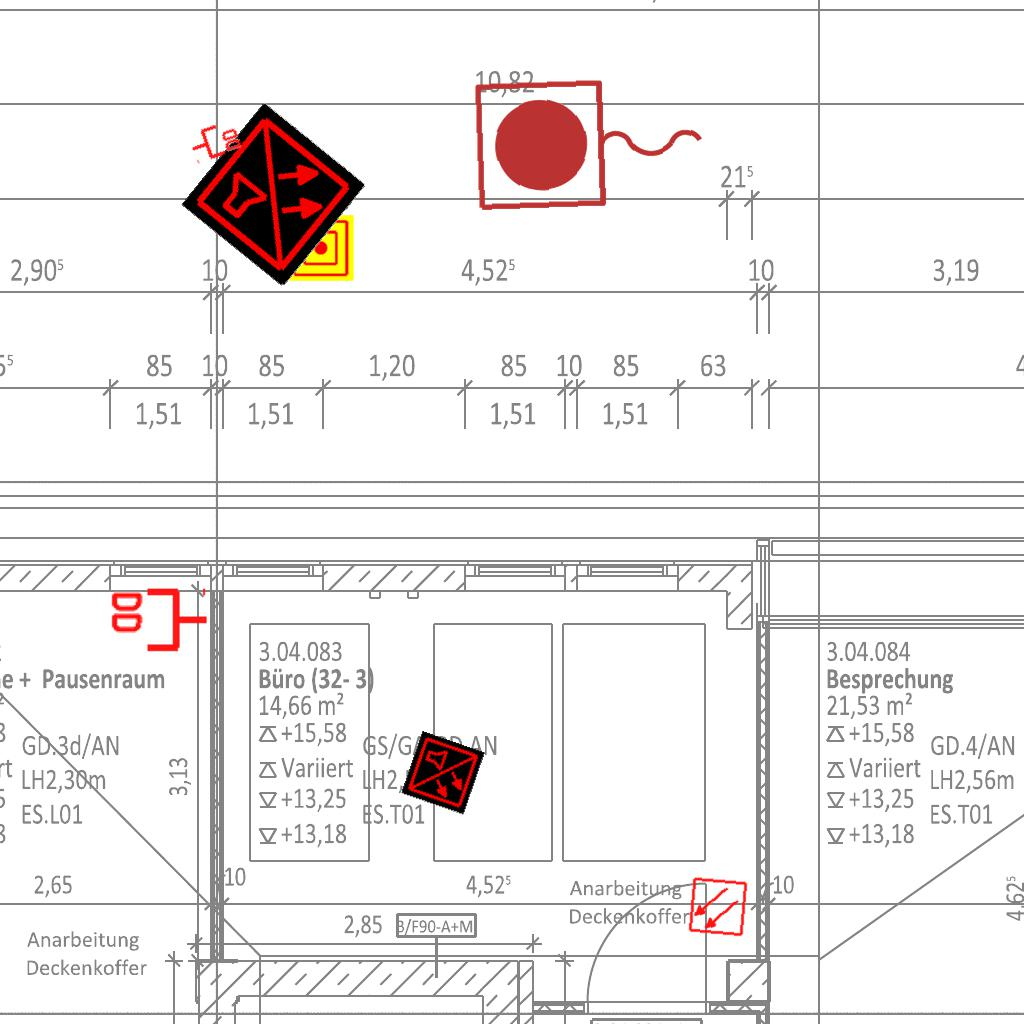Datenanschluss_zweifach: (107, 587, 210, 656), (185, 116, 245, 165)
NAM-Nichtautomatischer_Melder: (288, 215, 354, 281)
OKW_Multisensormelder_(Kombination_optischer_Rauch-Kahlenmonoxid_Waerme-Melder): (181, 102, 367, 288), (401, 731, 485, 815)
RMO_Rauchmelder_optischer: (687, 876, 749, 938)
Zugtaster: (466, 68, 716, 222)
